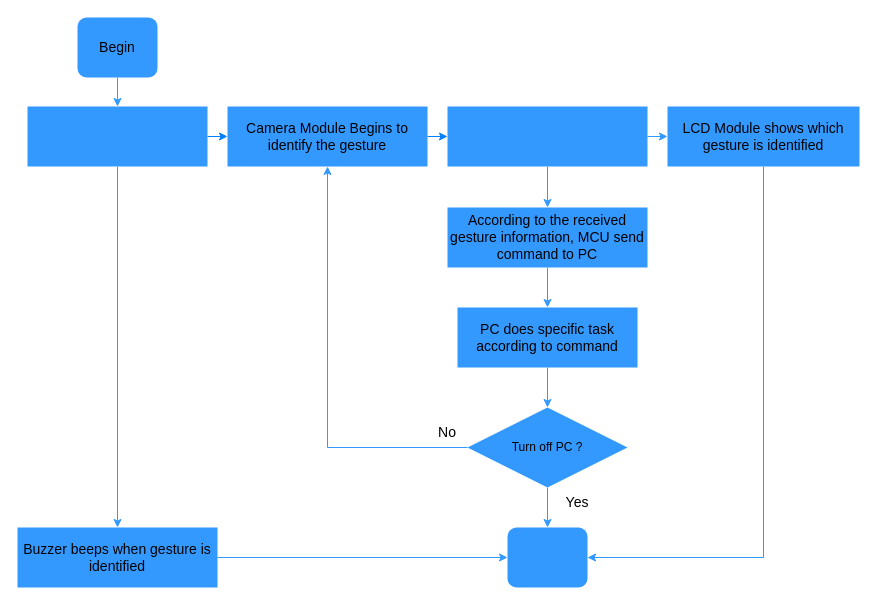
The diagram is 876 pixels wide and 604 high, and some of its shapes have lost their labels. The shapes that lost their labels are listed below. From the top down, each one's centre as x and y in pixels, then its label:
At pixel 117 136: "PC Power MCU".
At pixel 547 136: "Camera Send back the information of gesture to the MCU".
At pixel 547 557: "End".
